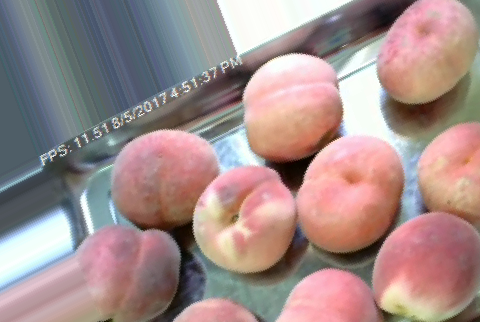Peach: (297, 135, 404, 251), (370, 211, 477, 321), (65, 222, 180, 321), (190, 165, 294, 271), (242, 51, 340, 160), (111, 129, 217, 228), (377, 2, 477, 104), (417, 122, 480, 225), (274, 264, 380, 322)
